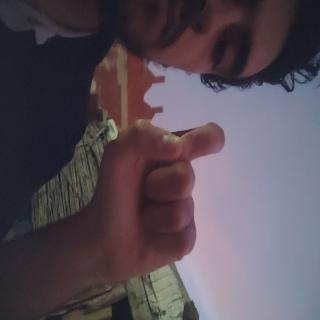FAA: (88, 122, 218, 304)
